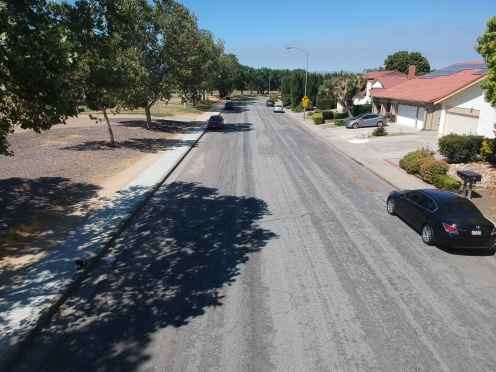plastic bag: (104, 253, 119, 266)
